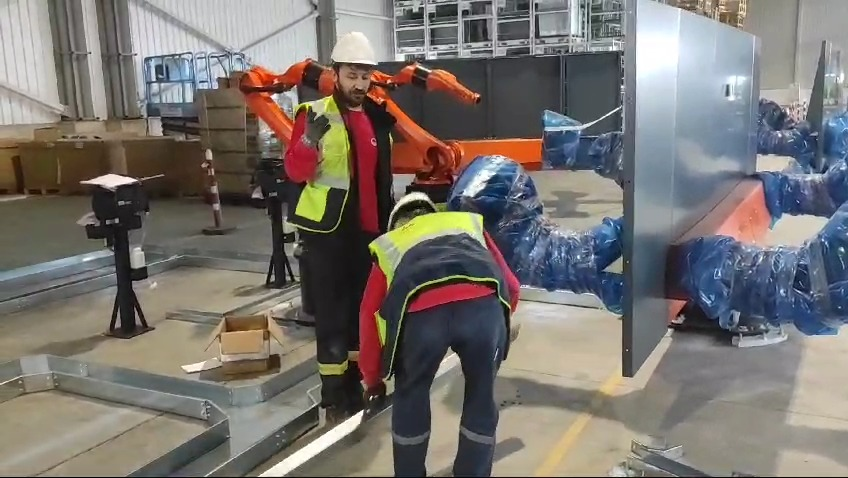safety_helmet: (386, 191, 438, 232), (329, 31, 379, 67)
